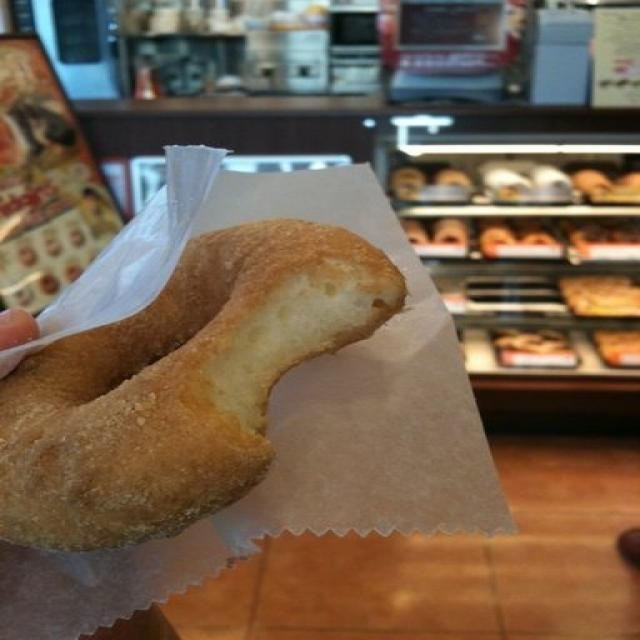Donuts: (8, 221, 410, 560)
